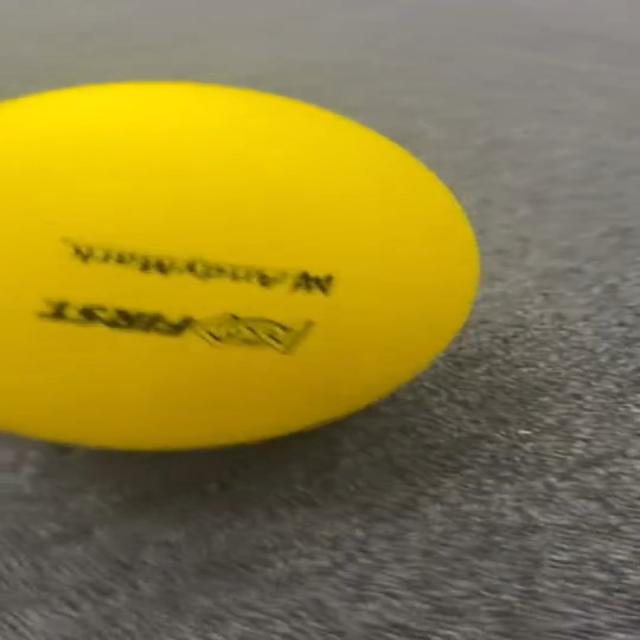Fuels: (2, 83, 480, 448)
